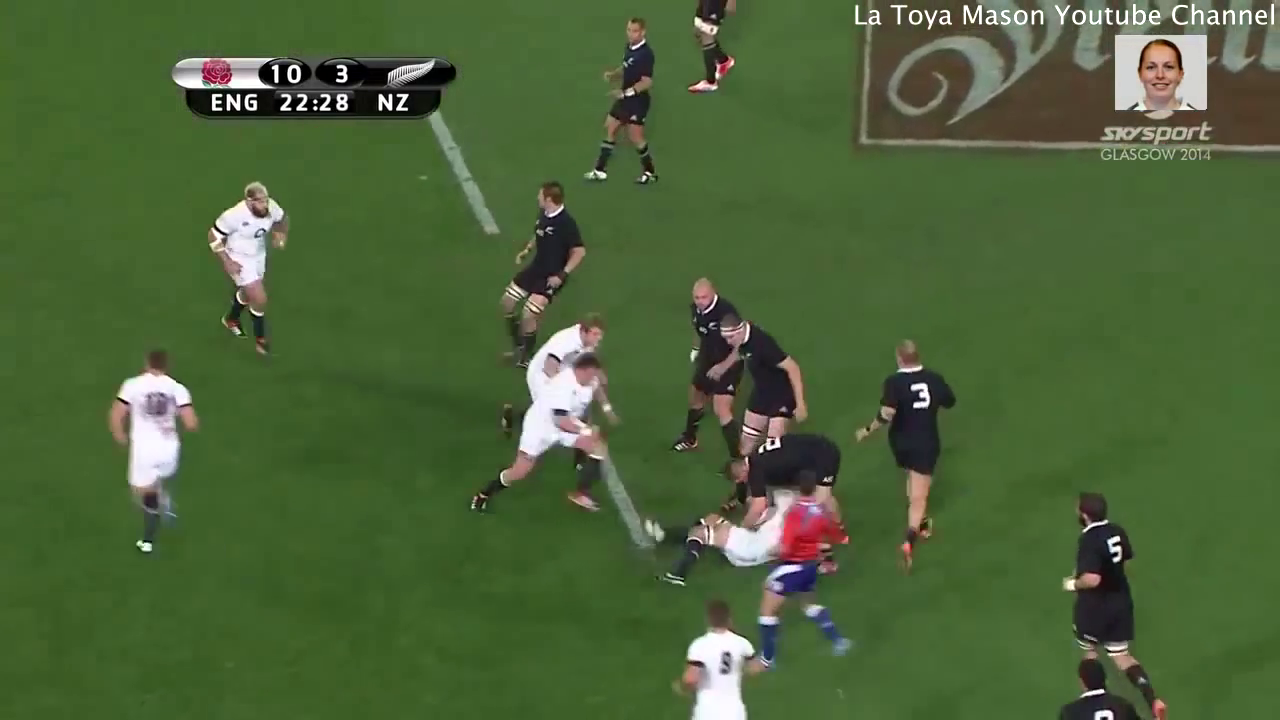player: (1048, 483, 1181, 720), (852, 329, 965, 573), (462, 352, 608, 524), (745, 472, 865, 672), (103, 343, 202, 558), (493, 177, 589, 374), (205, 175, 297, 361), (573, 14, 661, 188), (670, 267, 749, 460), (630, 496, 777, 586), (665, 592, 767, 720), (711, 309, 802, 434), (724, 430, 857, 508), (517, 308, 609, 393), (1046, 650, 1151, 720), (680, 1, 748, 98)
